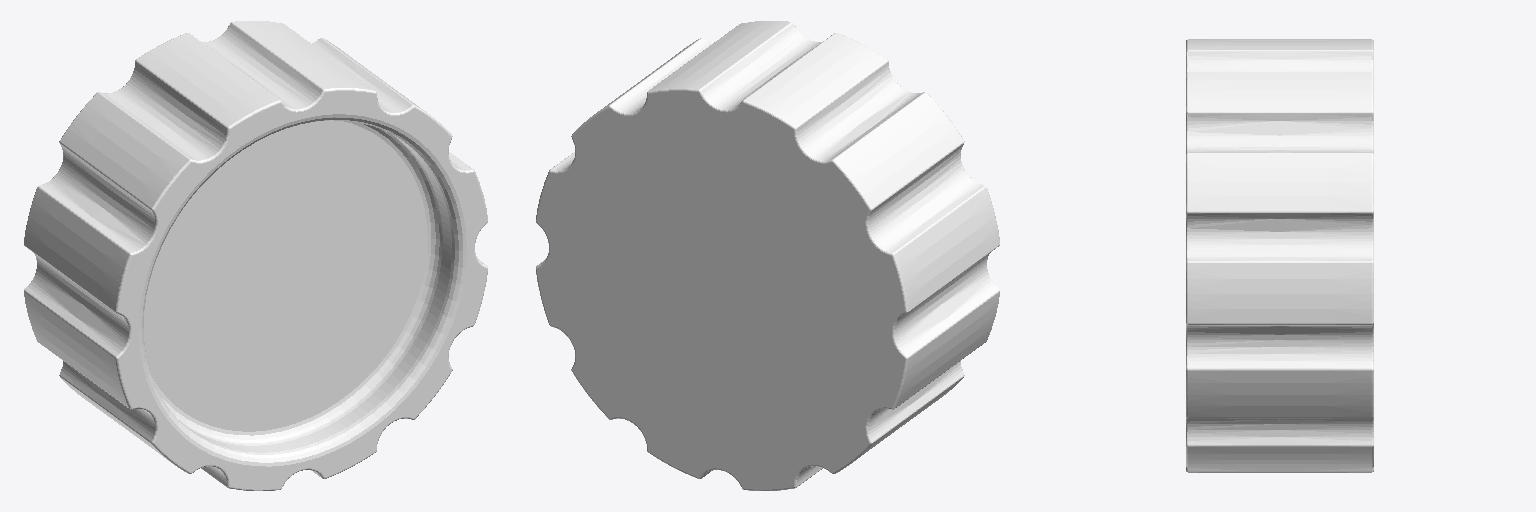
Rendered from knob42.obj.
The picture shows the model from 3 angles: view 1: azimuth 30°, elevation 25°; view 2: azimuth 150°, elevation 25°; view 3: azimuth 270°, elevation 25°; orthographic projection.
Parts seen in each view (by area): view 1: unnamed1; view 2: unnamed1; view 3: unnamed1.
Part boxes in pixels (bbox=[...]): unnamed1: bbox=[24, 21, 487, 490]; unnamed1: bbox=[536, 21, 999, 490]; unnamed1: bbox=[1186, 39, 1373, 472].
Size of the model in its own units: 35.23 by 35.23 by 15.4.